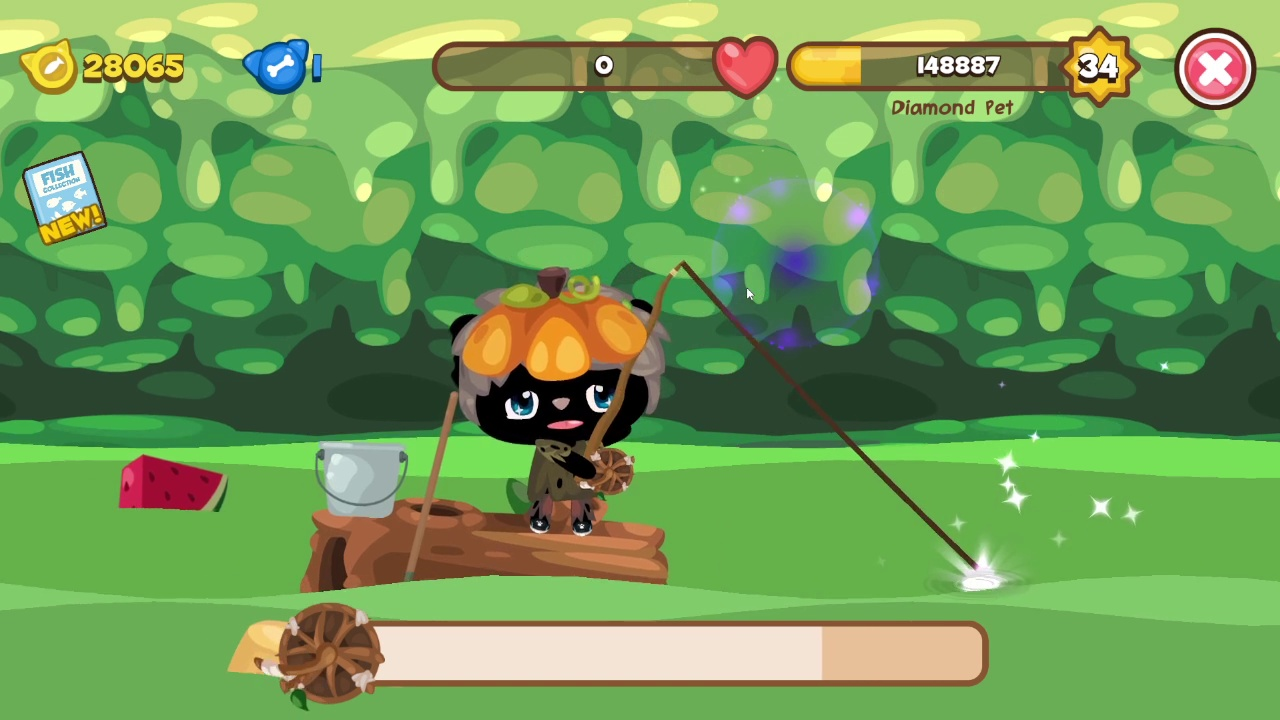point: (709, 176, 882, 351)
